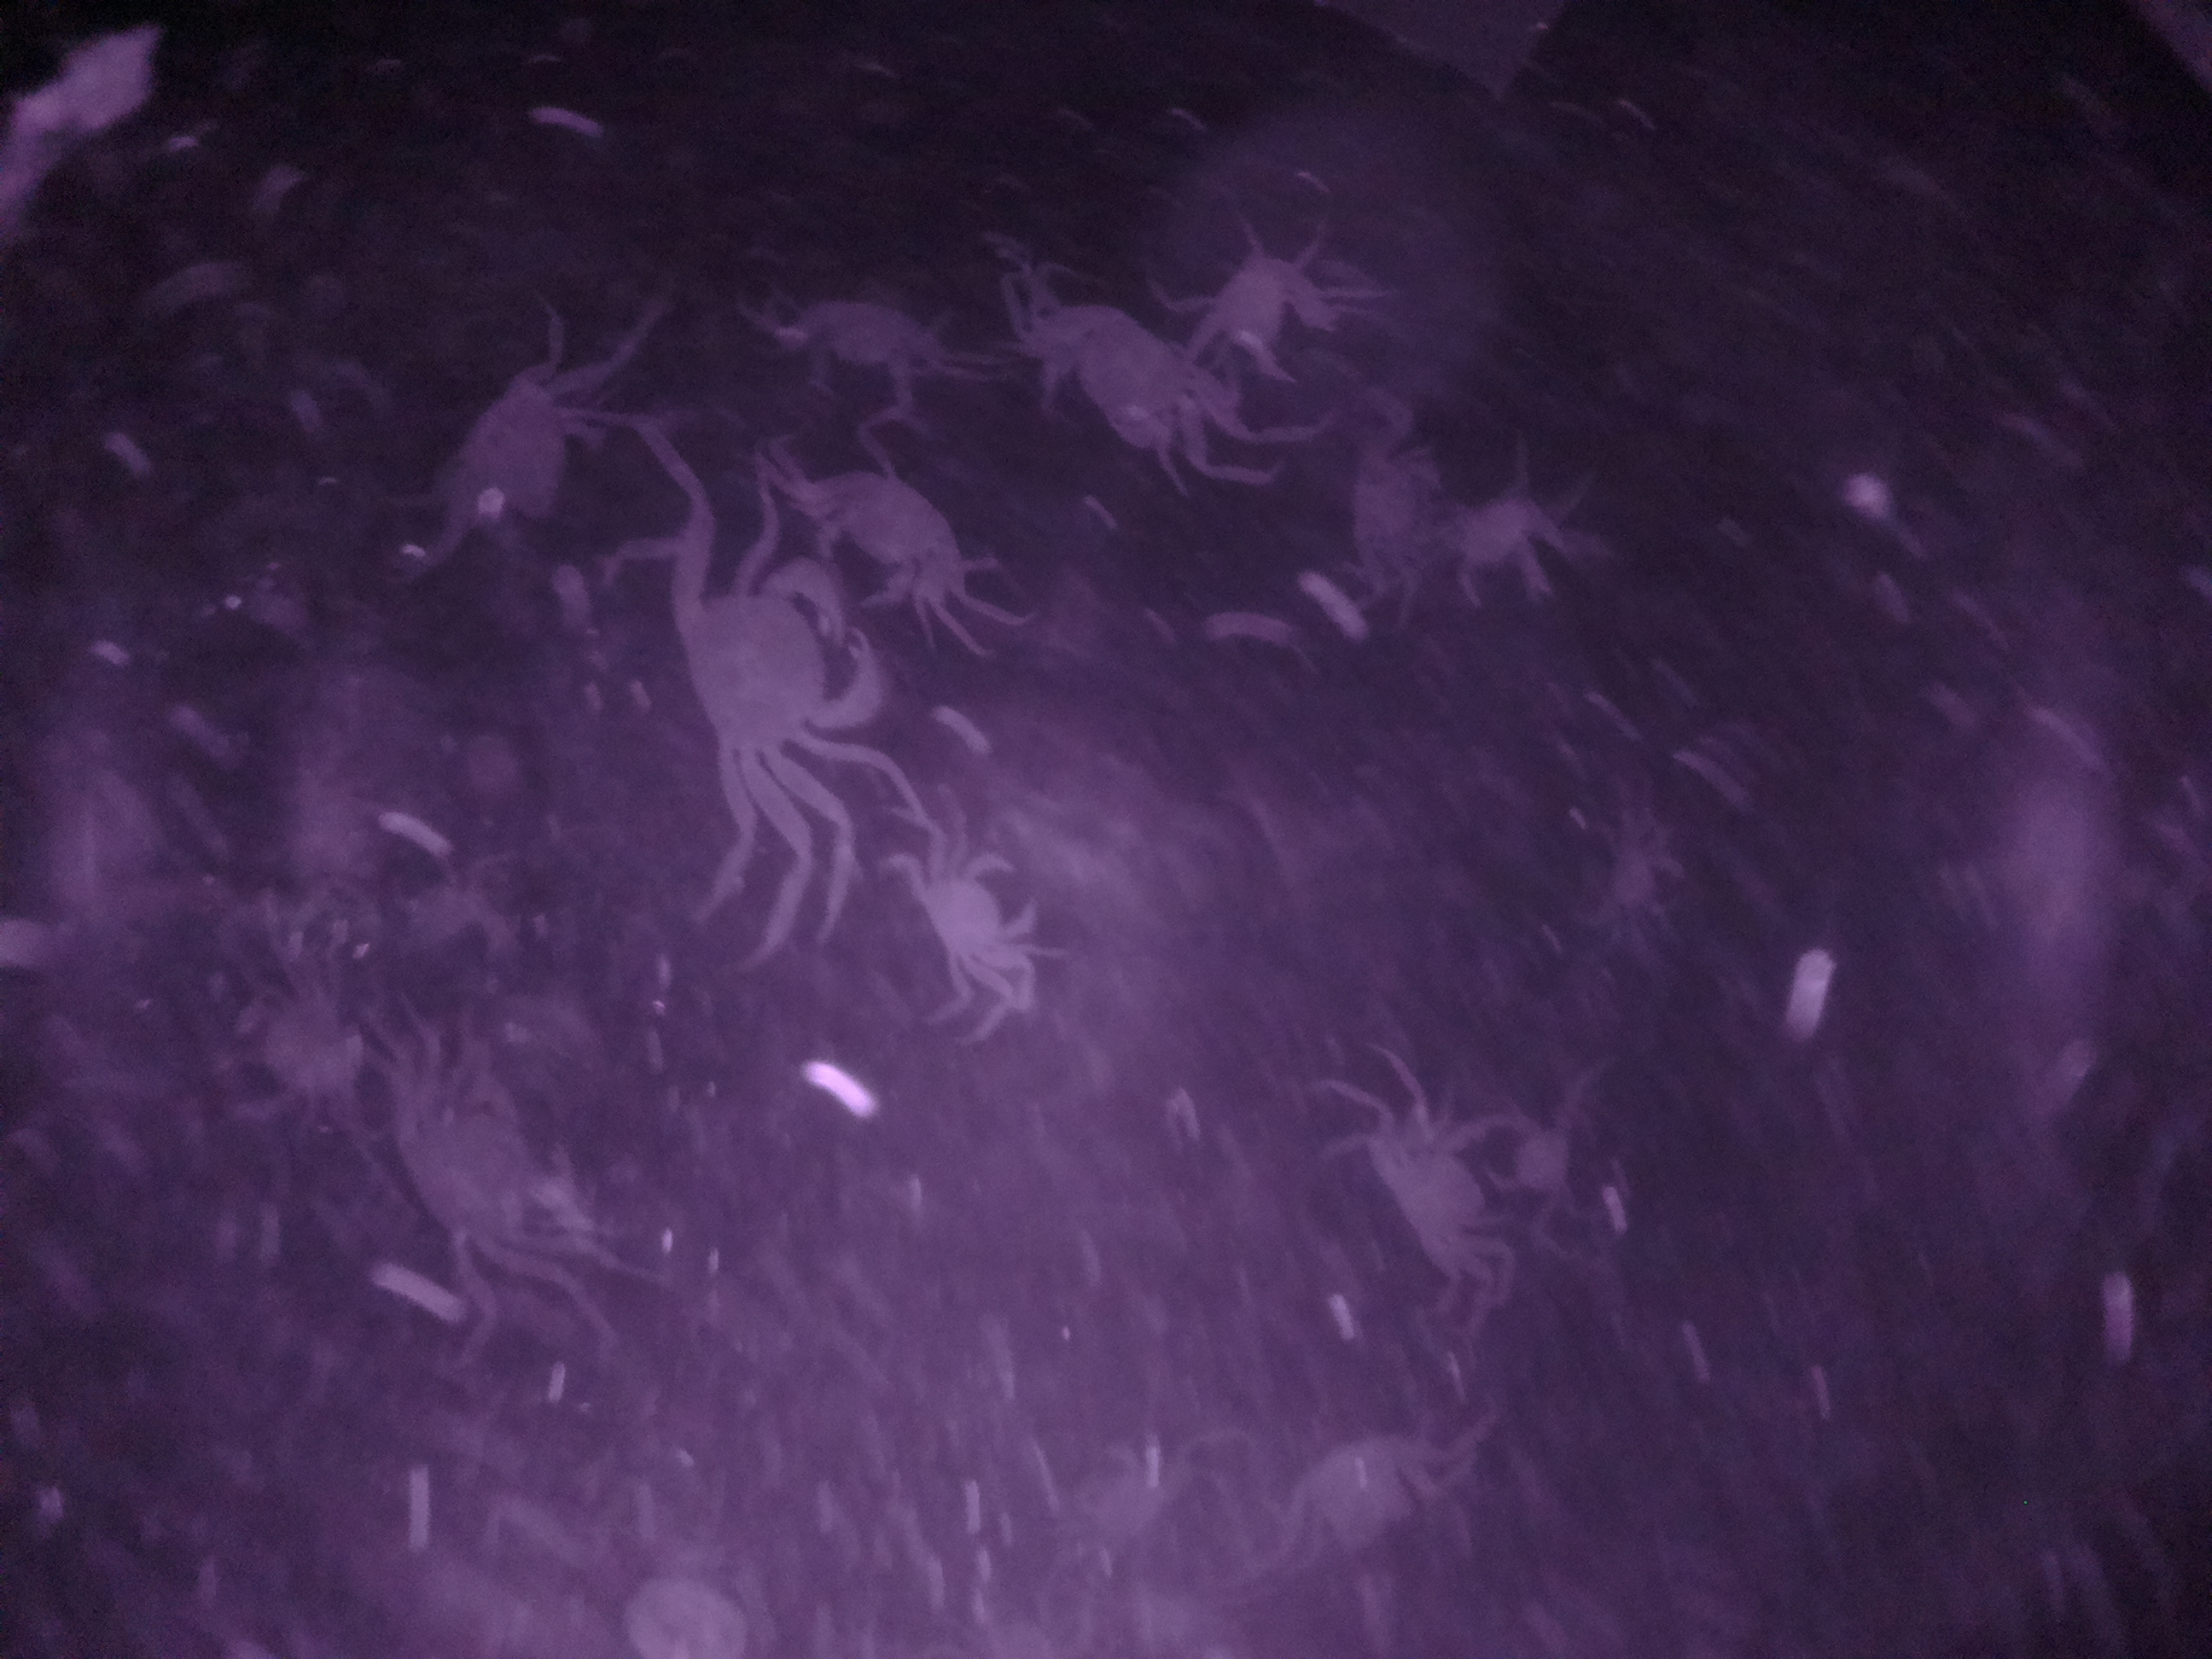Crab: (648, 532, 890, 829), (787, 460, 993, 620), (1350, 1084, 1498, 1303), (1021, 303, 1216, 469), (897, 826, 1052, 1000)
